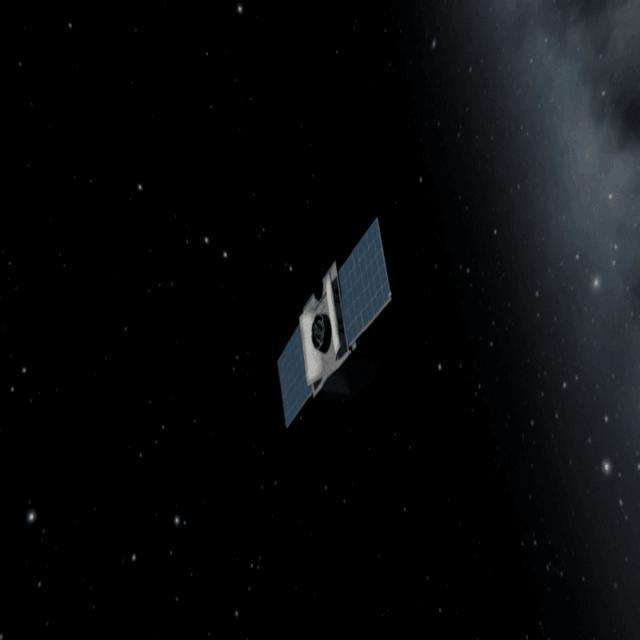sat: (268, 215, 408, 454)
